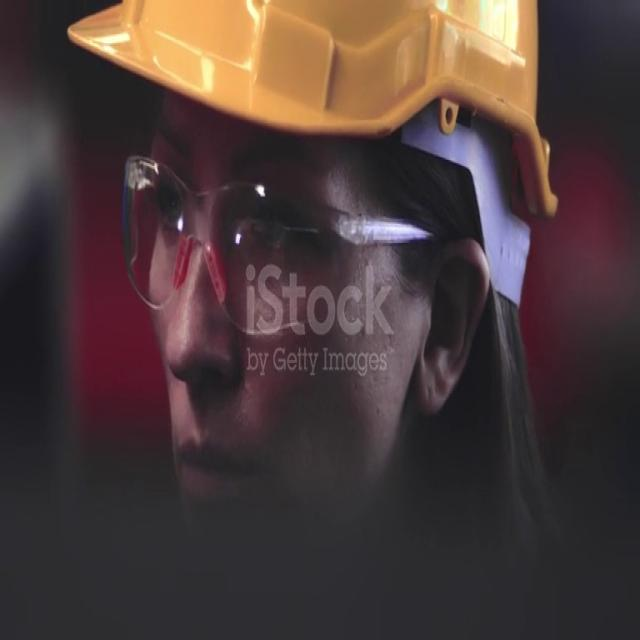capacete: (48, 0, 569, 261)
